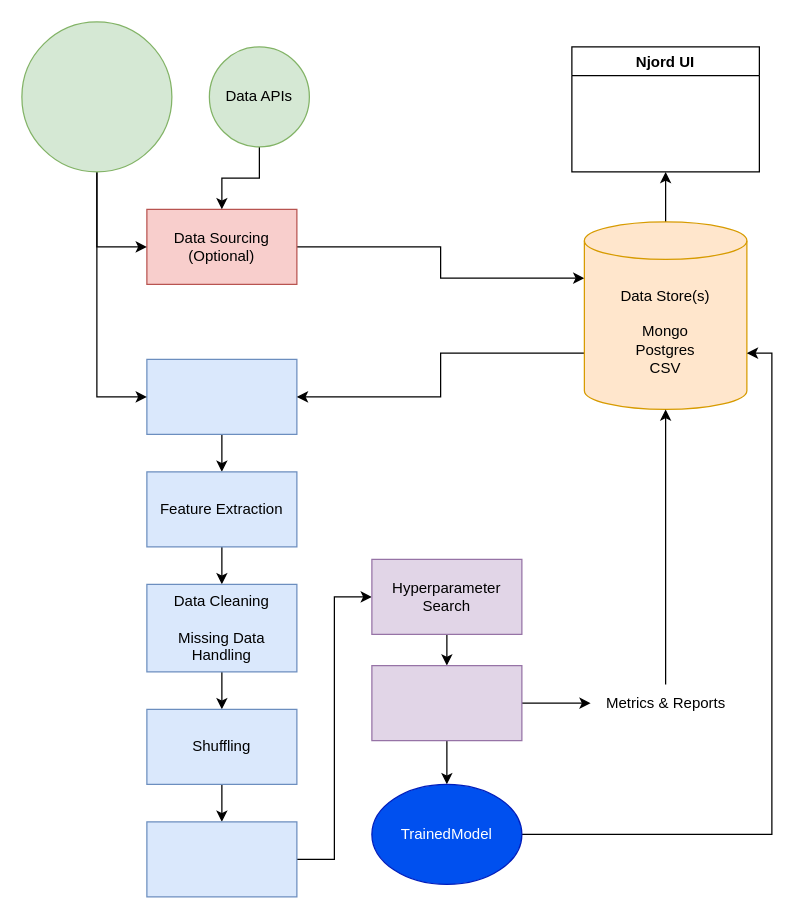
Image size: 804x919. Some labels were removed from this diagram. The centre of each missing label's shape, as x and y in pixels:
Data Loading: [221,396]
Model Configuration (User Defined): [96,96]
Sampling: [221,859]
Train Model: [446,702]
